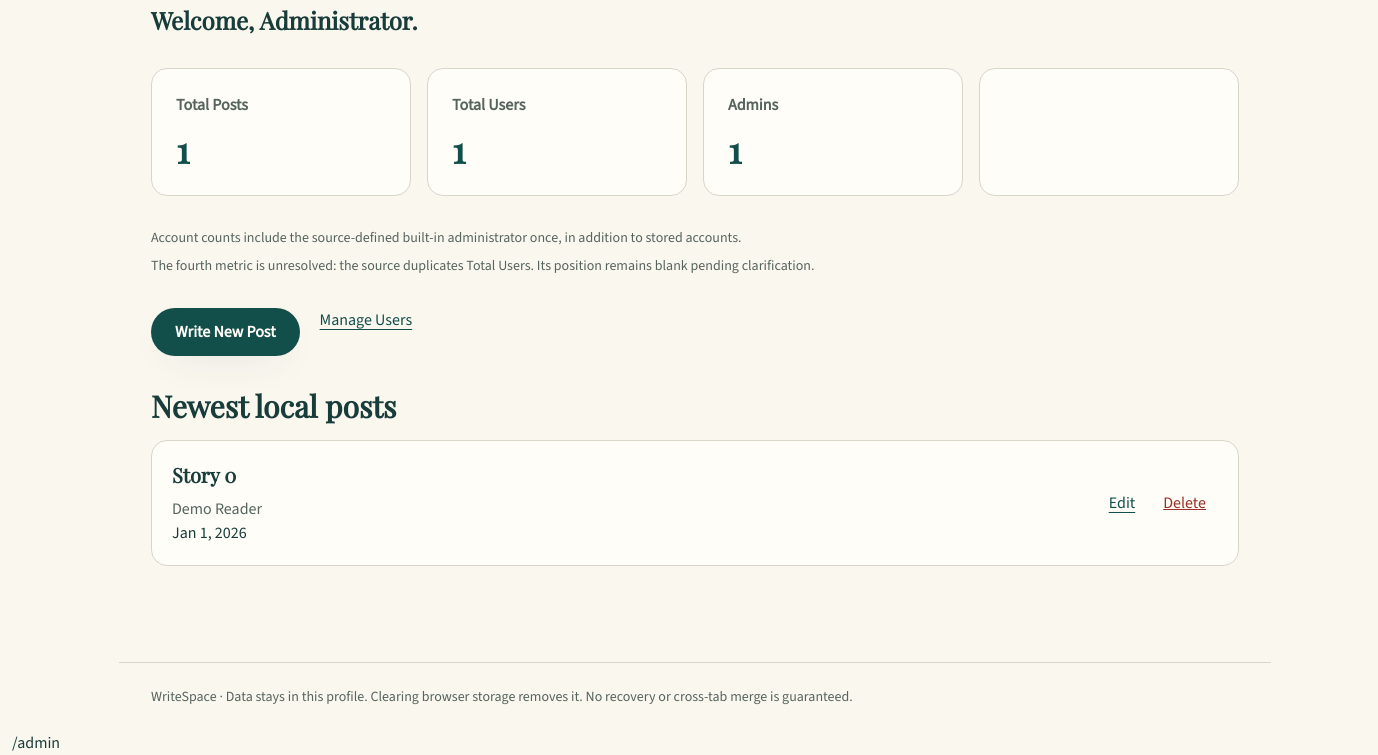
Test: real dashboard and routed controls › rechecks admin role before confirmation even when the new user owns the post
(page scrolled)
Click the button with aria-label "Delete Story 0" at (1185, 503), box [1151,481,1218,525]
(page scrolled)
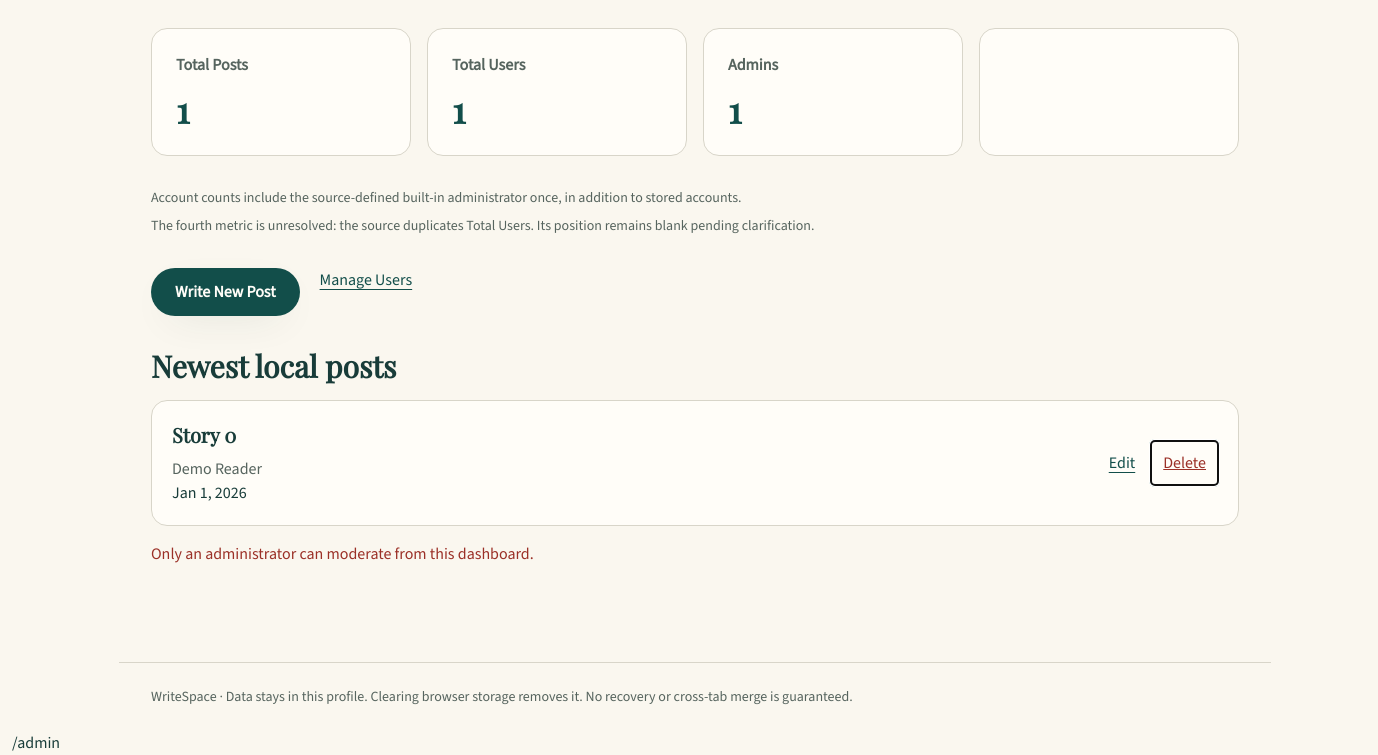
Check: the text named "Current route" reads "/admin", box [12,732,60,753]
Check: the message shows "Only an administrator", box [151,543,534,564]
